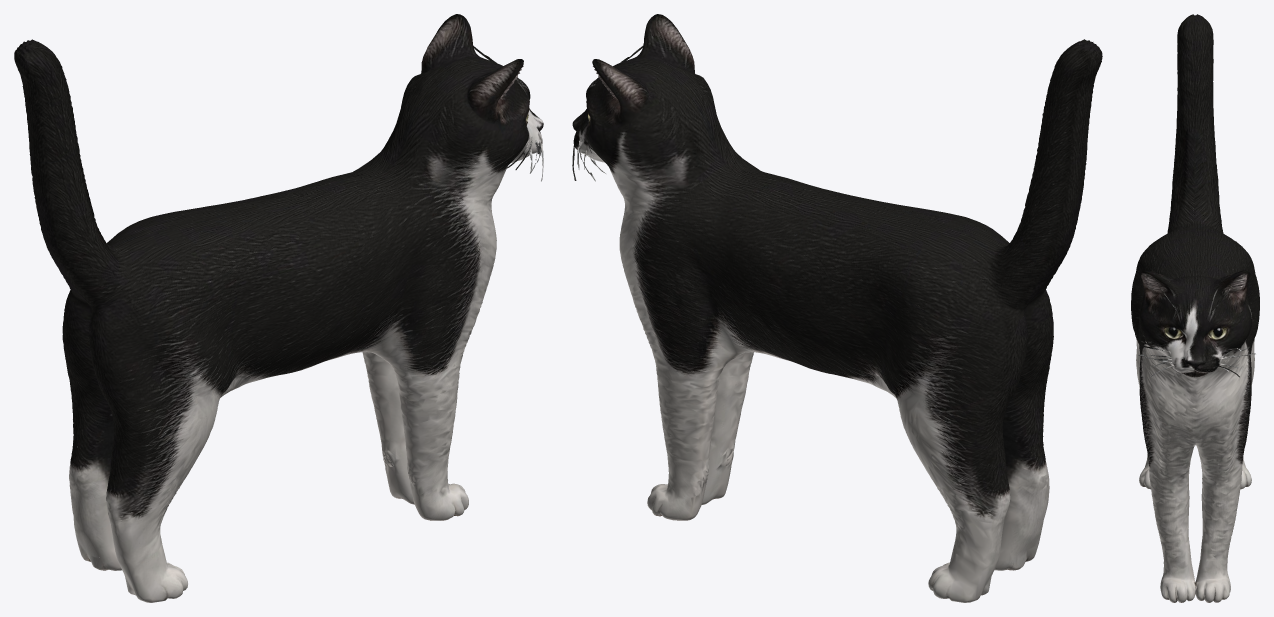
File: TONCHAN.glb
3 renders of one model, left to right at view 1: azimuth 30°, elevation 25°; view 2: azimuth 150°, elevation 25°; view 3: azimuth 270°, elevation 25°, orthographic. The views are drawn at different scales.
Parts seen in each view (by area): view 1: tripo_node_2704f476-9c8d-4243-9574-8c6b34a2338b; view 2: tripo_node_2704f476-9c8d-4243-9574-8c6b34a2338b; view 3: tripo_node_2704f476-9c8d-4243-9574-8c6b34a2338b.
Part boxes in pixels (x1,y1,x2,y2): tripo_node_2704f476-9c8d-4243-9574-8c6b34a2338b: (14, 14, 543, 602); tripo_node_2704f476-9c8d-4243-9574-8c6b34a2338b: (572, 14, 1102, 602); tripo_node_2704f476-9c8d-4243-9574-8c6b34a2338b: (1131, 14, 1259, 602).
Size of the model in its own units: 0.9759 by 0.9998 by 0.2707.
Materials: 1 (1 with a texture image).
